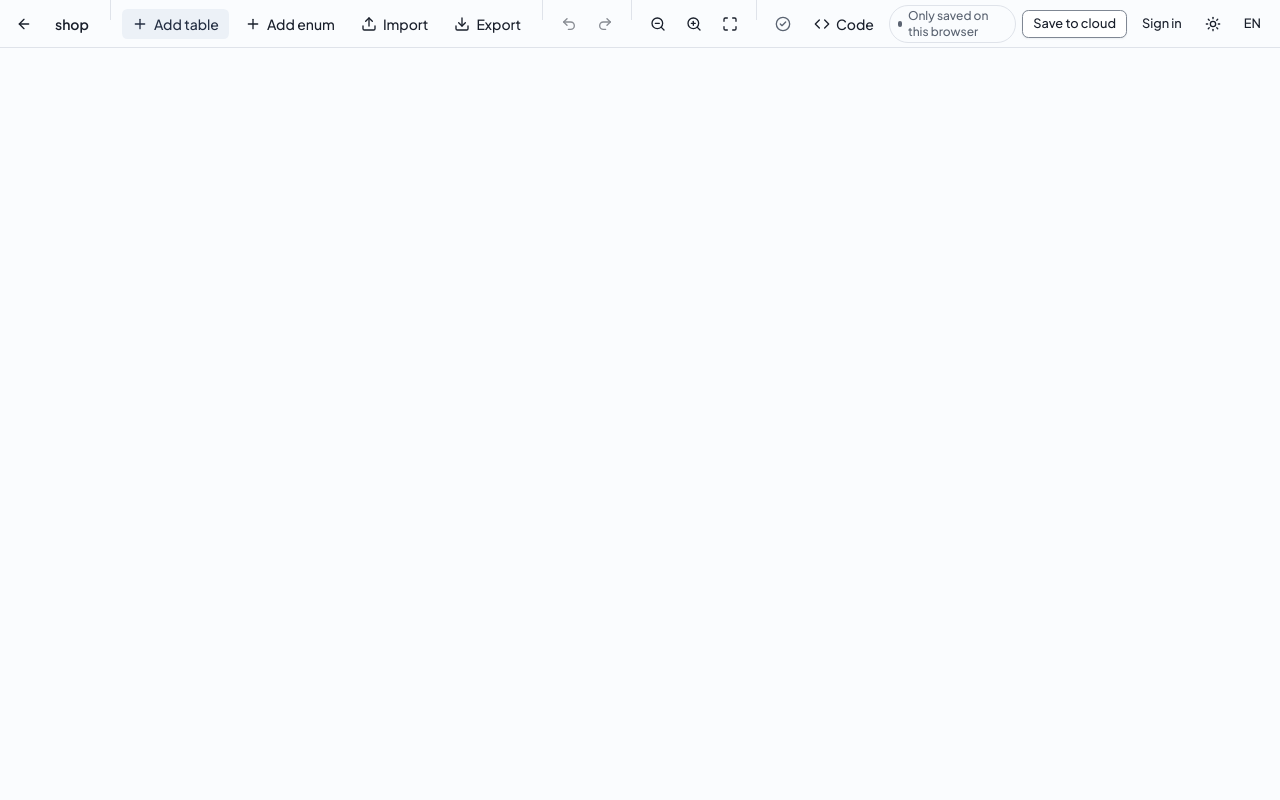
Test: EditorToolbar › renames the schema from the toolbar dialog
Click the button named "Schema name shop". click: (72, 24)
box: x1=44 y1=8 x2=100 y2=40
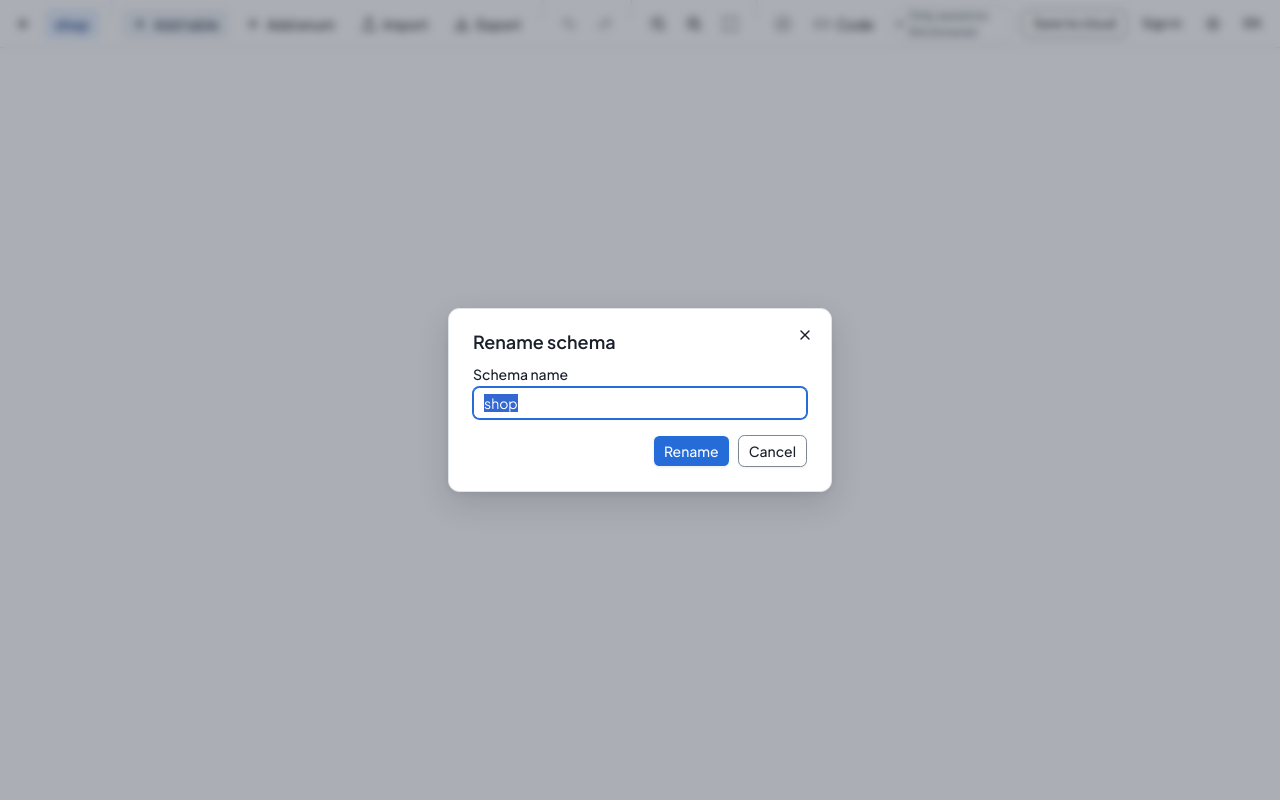
Replace the text in the field labelled "Schema name" with "store". click: (640, 403)
box: x1=473 y1=387 x2=807 y2=419
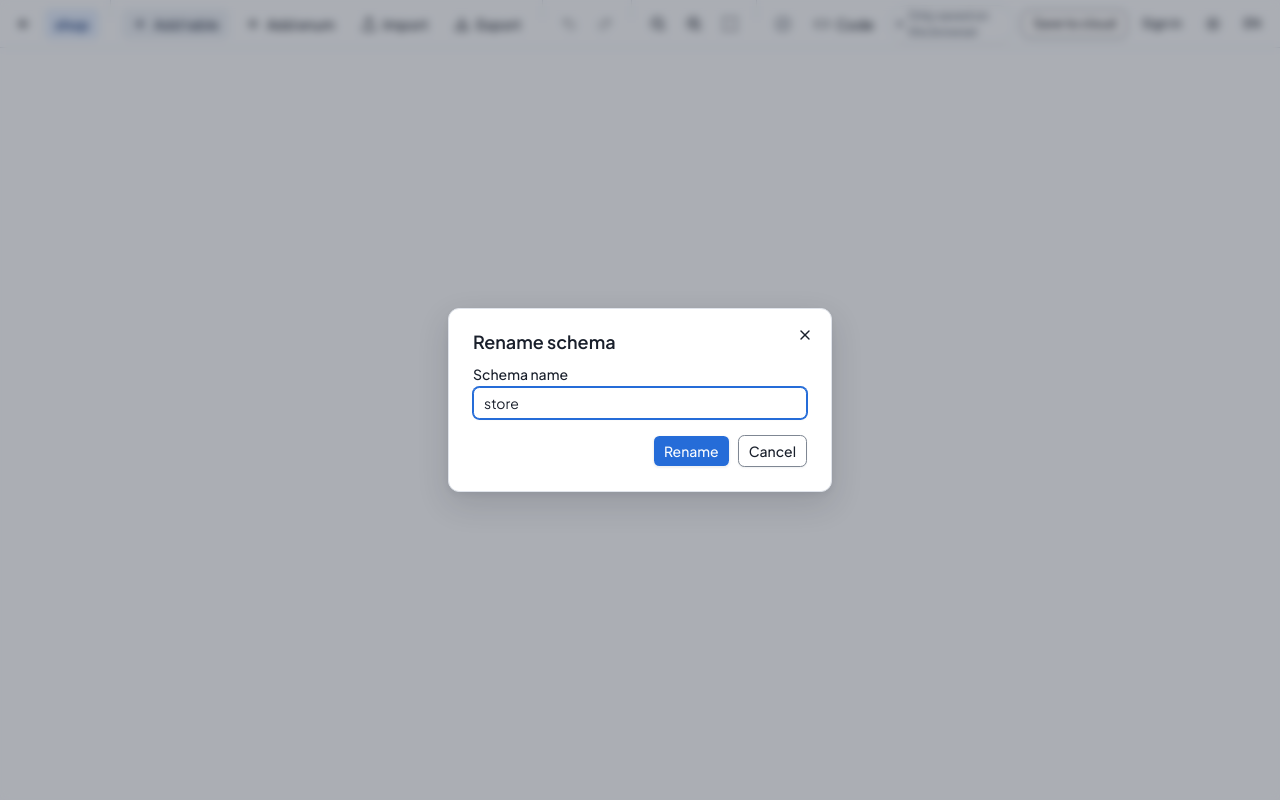
Click the button "Rename". click: (691, 451)
box: x1=653 y1=435 x2=730 y2=467
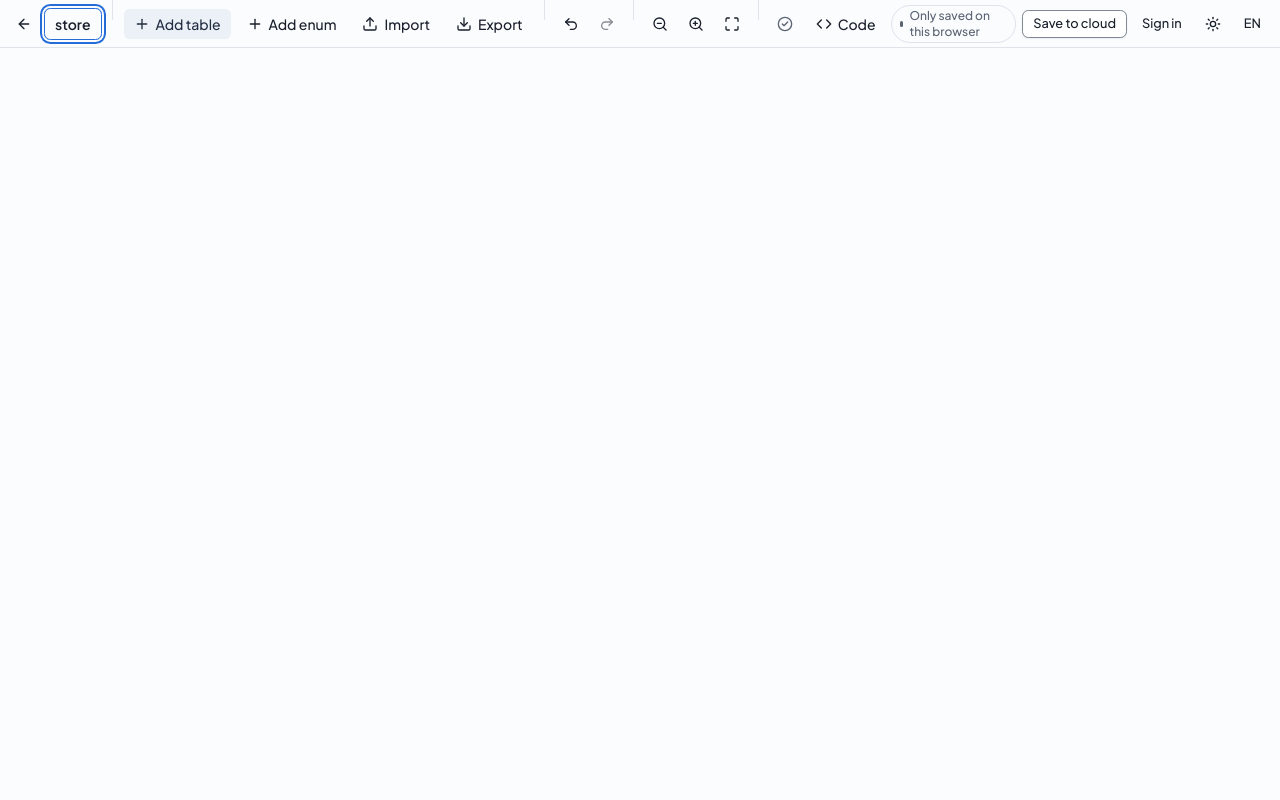
Check: the button named "Schema name store" is shown, box x1=44 y1=8 x2=102 y2=40
Check: the dialog is gone
